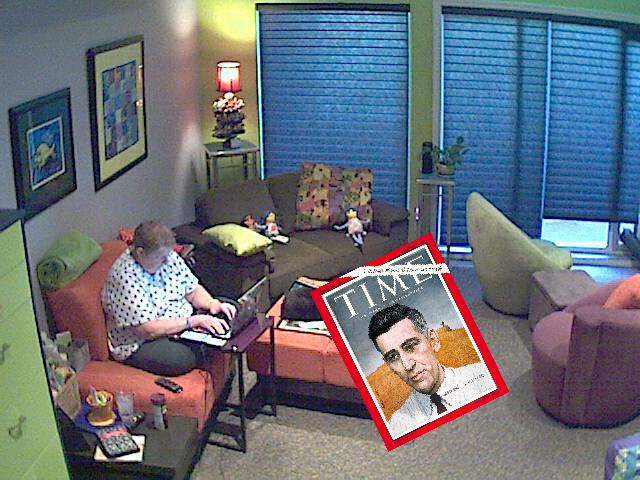times: (308, 232, 511, 452)
